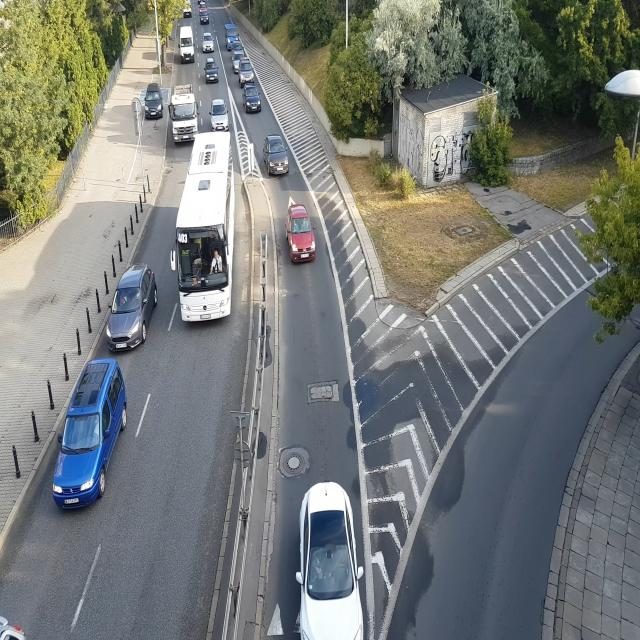bus: (172, 134, 238, 329)
car: (45, 356, 134, 512), (297, 468, 367, 640), (98, 266, 158, 350), (283, 201, 317, 262), (0, 593, 40, 640), (264, 133, 290, 177), (241, 87, 264, 117), (144, 89, 166, 118), (210, 102, 228, 130), (180, 30, 193, 65), (203, 56, 220, 82), (223, 20, 238, 46), (238, 60, 255, 81), (181, 1, 194, 21), (201, 34, 214, 52), (233, 53, 243, 72), (232, 40, 245, 54), (199, 10, 208, 22)
truck: (170, 86, 201, 140)
